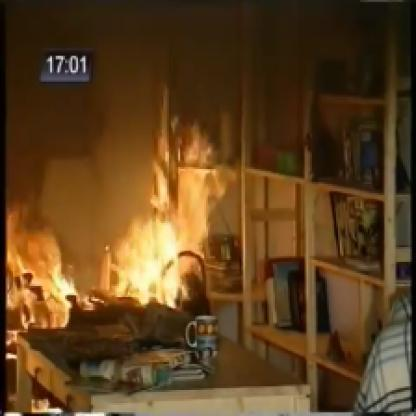fire: (96, 107, 243, 314), (0, 180, 82, 342), (4, 384, 123, 416)
